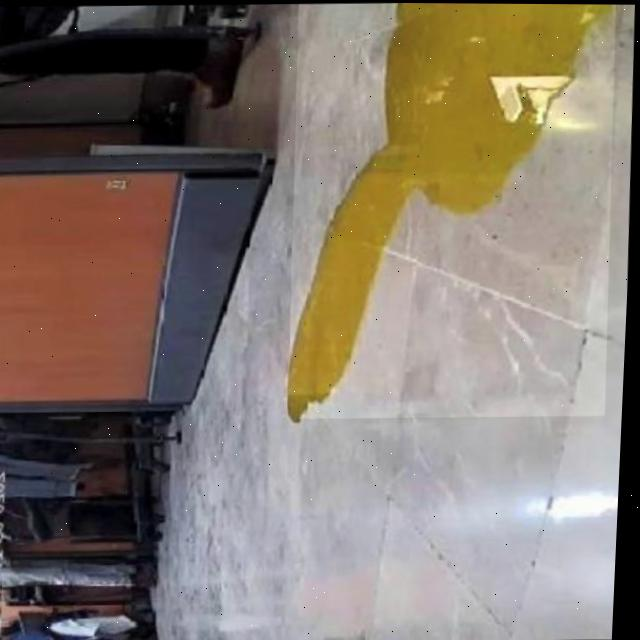spillage: (292, 2, 614, 417)
